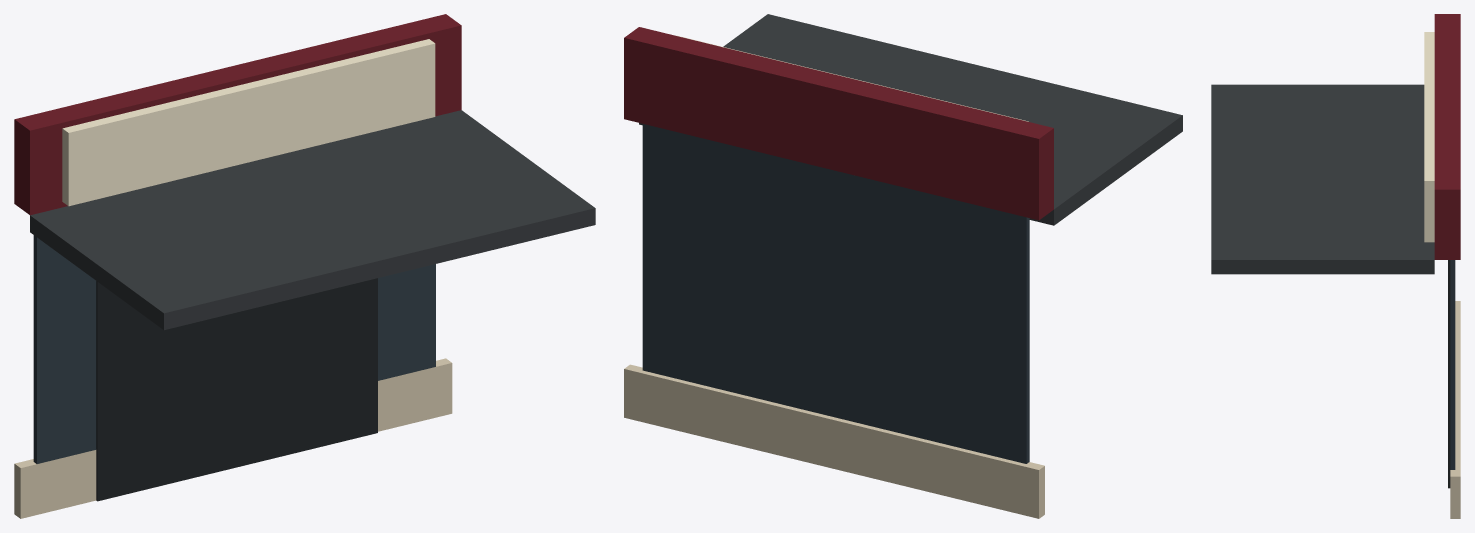
The model's file is entrance.glb.
3 views of the same model, side by side, from view 1: azimuth 30°, elevation 25°; view 2: azimuth 150°, elevation 25°; view 3: azimuth 270°, elevation 25° (orthographic). The views are drawn at different scales.
Visible parts, largest first — view 1: entrance; view 2: entrance; view 3: entrance.
Part boxes in pixels (x1,y1,x2,y2): entrance: (14,14,595,518); entrance: (624,14,1182,518); entrance: (1211,14,1460,518).
Bounding box in the file's own units: 4 × 3.5 × 2.4.
